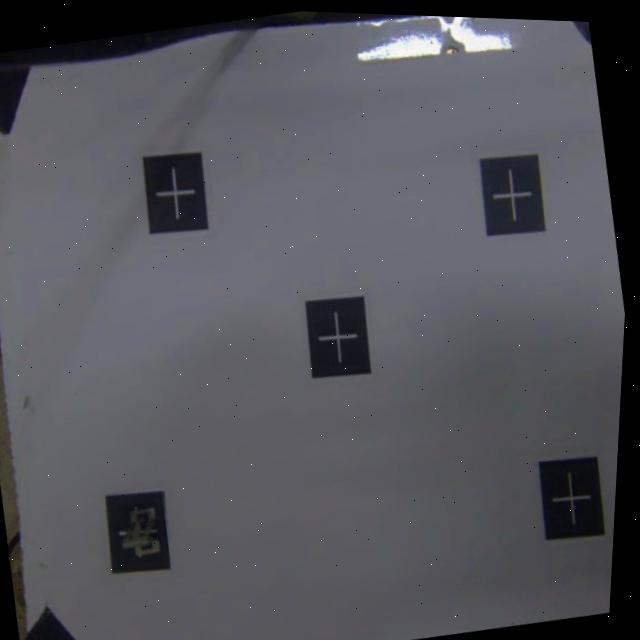pick5: (99, 487, 174, 577)
